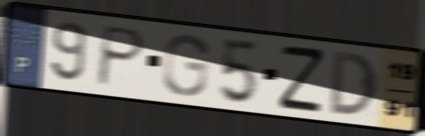5: (216, 35, 263, 106)
9: (49, 20, 89, 83)
D: (329, 48, 381, 118)
G: (160, 32, 211, 98)
P: (93, 23, 149, 89)
Z: (277, 43, 326, 114)
